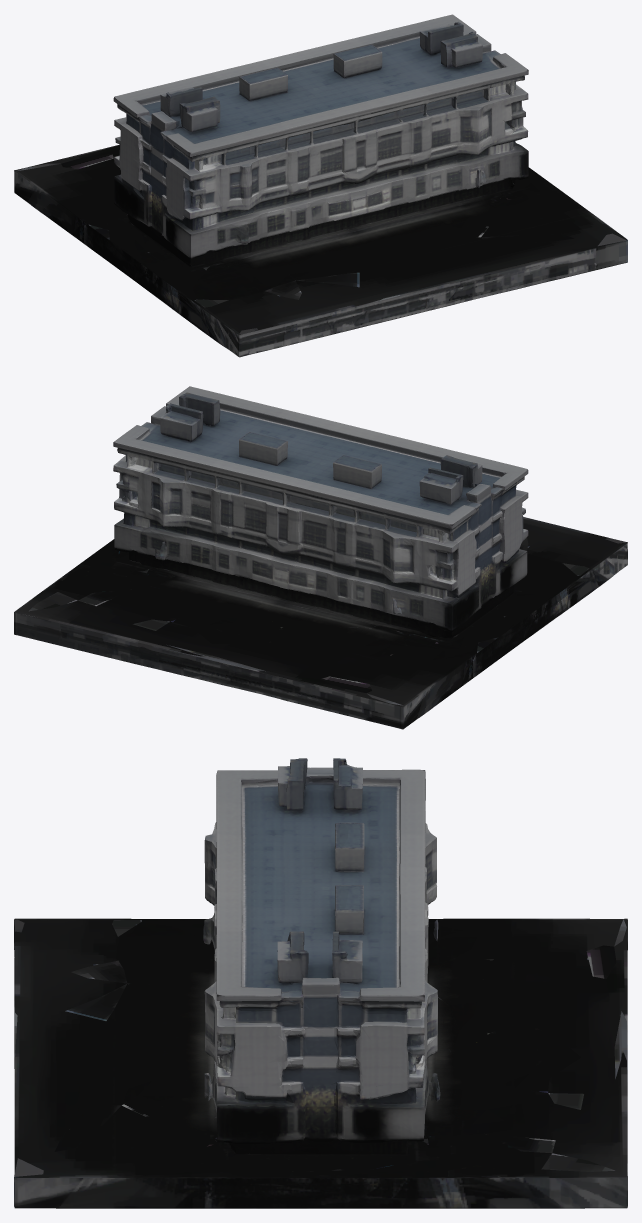
Rendered from images_3d.glb.
3 views of the same model, one above another, from view 1: azimuth 30°, elevation 25°; view 2: azimuth 150°, elevation 25°; view 3: azimuth 270°, elevation 25° (orthographic). The views are drawn at different scales.
Visible parts, largest first — view 1: world; view 2: world; view 3: world.
Boxes of the visible parts, box(x1,y1,x2,y2) form: world: box(14, 14, 627, 357); world: box(14, 386, 627, 729); world: box(14, 758, 627, 1208).
Bounding box in the file's own units: 1 × 0.4058 × 1.
1 material, 1 textured.
